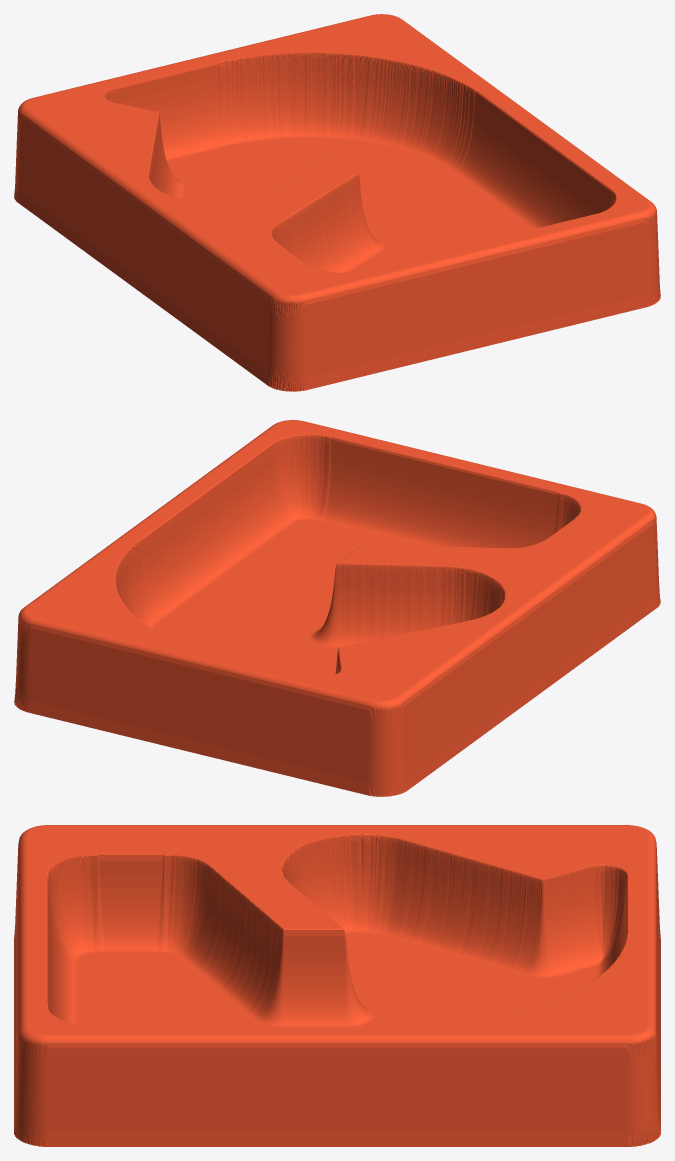
File: mold.glb
3 views of the same model, one above another, from view 1: azimuth 30°, elevation 25°; view 2: azimuth 150°, elevation 25°; view 3: azimuth 270°, elevation 25° (orthographic). The views are drawn at different scales.
Parts seen in each view (by area): view 1: geometry_0; view 2: geometry_0; view 3: geometry_0.
Part boxes in pixels (x1=…): geometry_0: x1=14, y1=14, x2=660, y2=391; geometry_0: x1=14, y1=420, x2=660, y2=796; geometry_0: x1=14, y1=825, x2=660, y2=1146.
Size of the model in its own units: 0.1378 by 0.031 by 0.1709.
